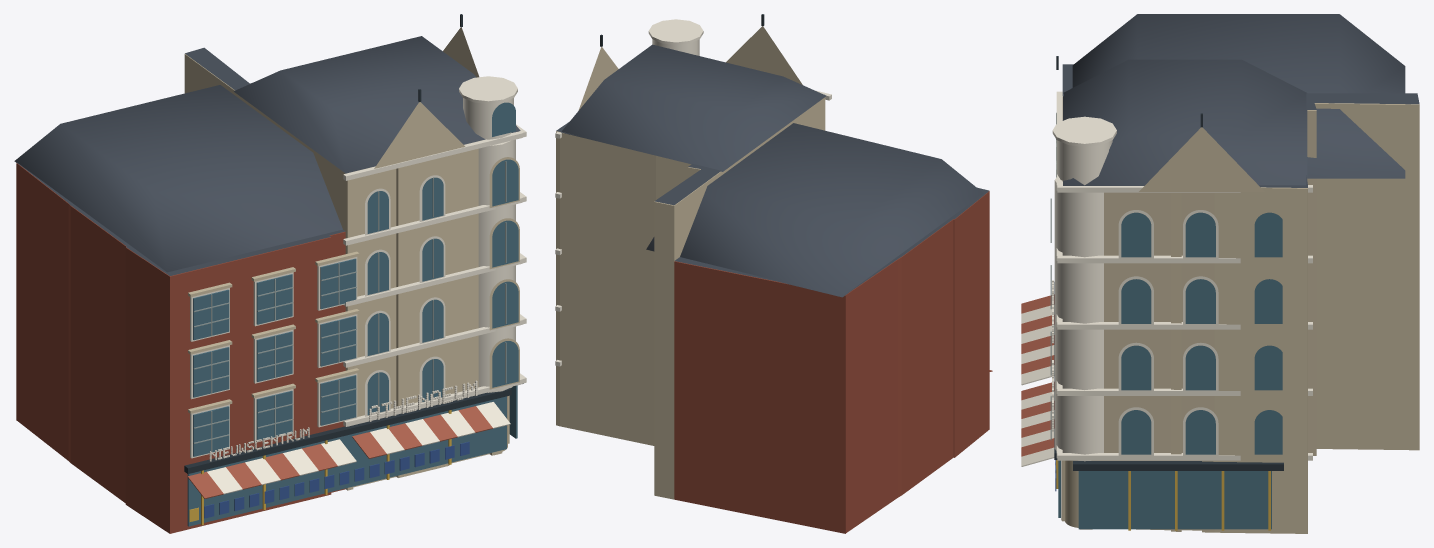
File: athenaeum.glb
3 renders of one model, left to right at view 1: azimuth 30°, elevation 25°; view 2: azimuth 150°, elevation 25°; view 3: azimuth 270°, elevation 25°, orthographic. The views are drawn at different scales.
Visible parts, largest first — view 1: athenaeum; view 2: athenaeum; view 3: athenaeum.
Part boxes in pixels (<box>): athenaeum: <box>14,14,526,533</box>; athenaeum: <box>555,14,992,533</box>; athenaeum: <box>1021,14,1419,533</box>.
Size of the model in its own units: 20.45 by 20.85 by 17.93.
